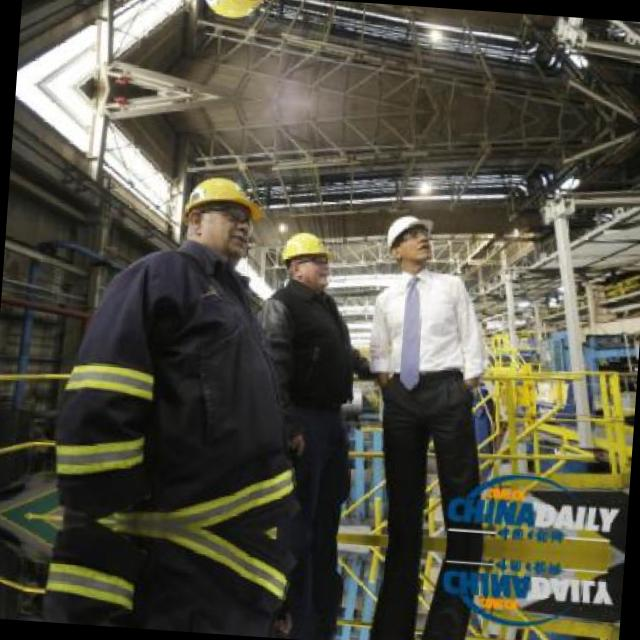helmet: (171, 155, 271, 274), (376, 204, 442, 276), (270, 224, 339, 291), (187, 0, 284, 38)
